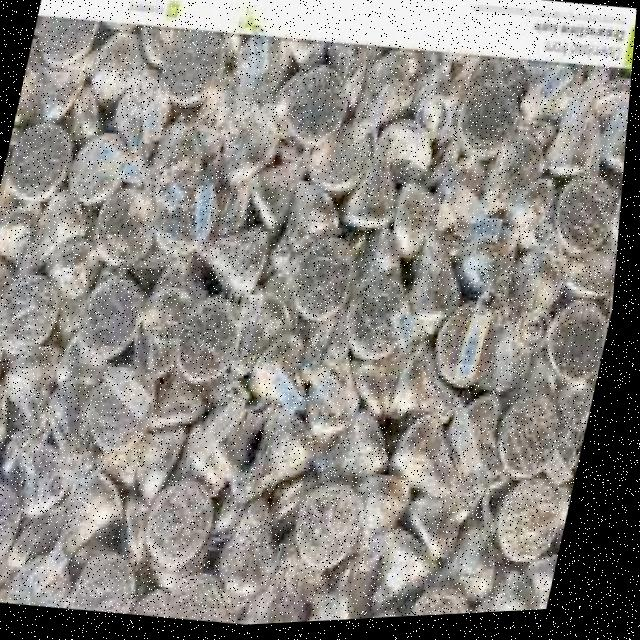kisses: (504, 57, 628, 185), (255, 50, 364, 167), (208, 482, 299, 611), (2, 421, 97, 540), (344, 259, 434, 373), (185, 213, 283, 317), (238, 323, 322, 440), (273, 178, 354, 295), (291, 479, 379, 586), (431, 294, 517, 401), (0, 256, 81, 367), (174, 291, 258, 396), (145, 171, 233, 271), (146, 473, 229, 577), (485, 390, 577, 483), (89, 173, 169, 277), (3, 107, 85, 203), (77, 269, 155, 369), (548, 171, 627, 268), (539, 304, 617, 401), (290, 234, 366, 332), (153, 28, 237, 115), (83, 23, 163, 114)
